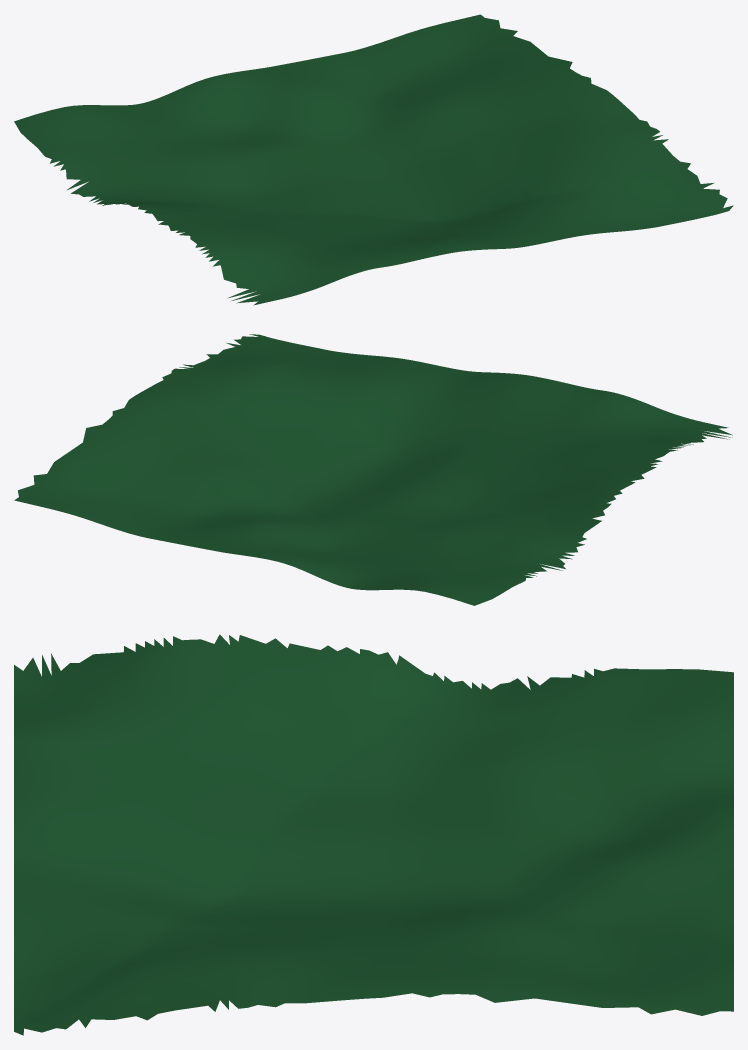
The model's file is payo_land_xm2_ym4.glb.
3 views of the same model, one above another, from view 1: azimuth 30°, elevation 25°; view 2: azimuth 150°, elevation 25°; view 3: azimuth 270°, elevation 25° (orthographic). The views are drawn at different scales.
Visible parts, largest first — view 1: payo_land_xm2_ym4; view 2: payo_land_xm2_ym4; view 3: payo_land_xm2_ym4.
Boxes of the visible parts, <box> form: payo_land_xm2_ym4: <box>14,14,733,305</box>; payo_land_xm2_ym4: <box>14,334,732,605</box>; payo_land_xm2_ym4: <box>14,634,733,1035</box>.
Size of the model in its own units: 268 by 27.53 by 231.
